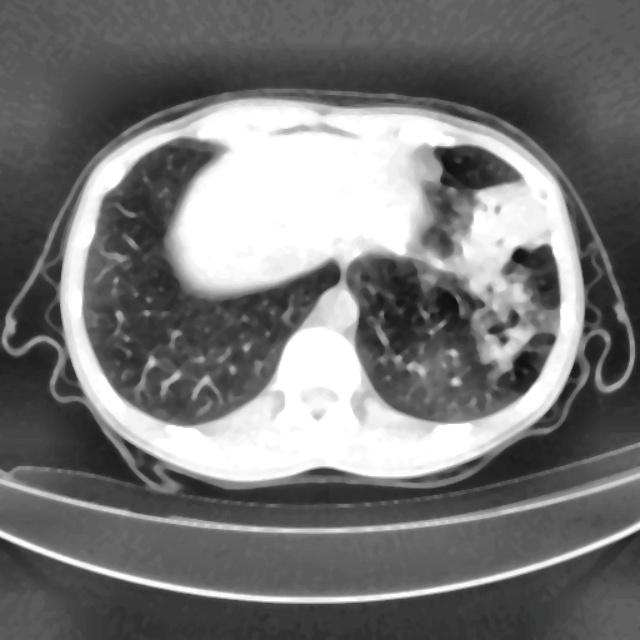covid: (3, 88, 630, 494)
